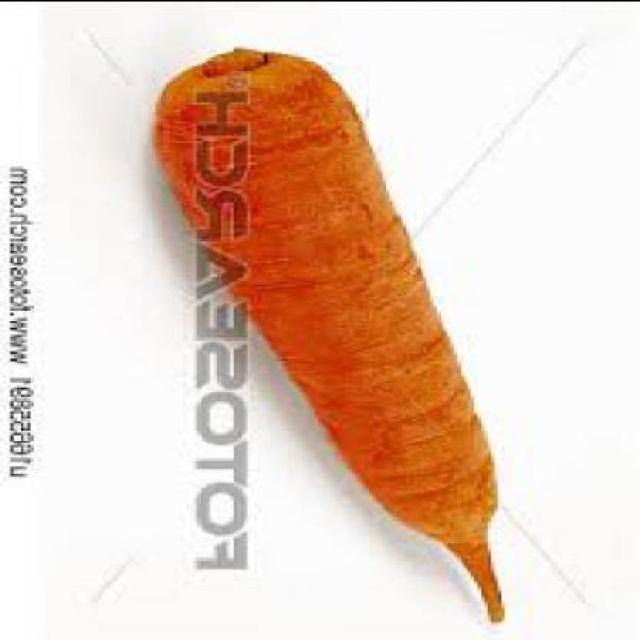BIODEGRADABLE: (155, 50, 508, 625)
